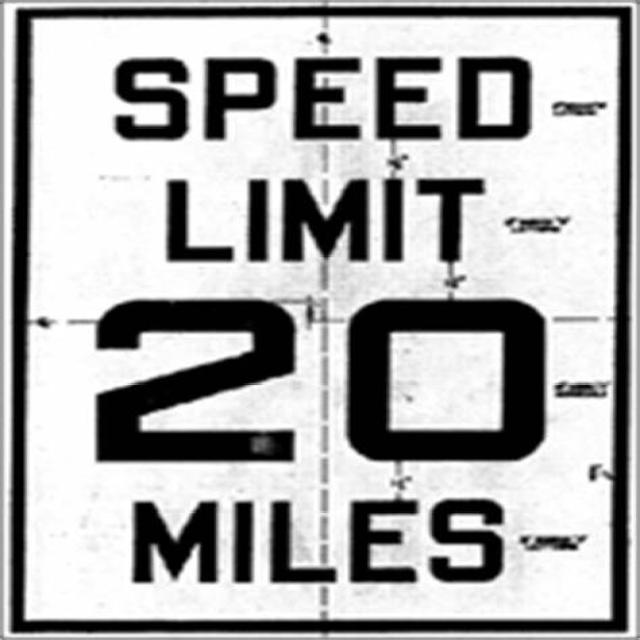speedLimit20: (7, 16, 630, 630)
